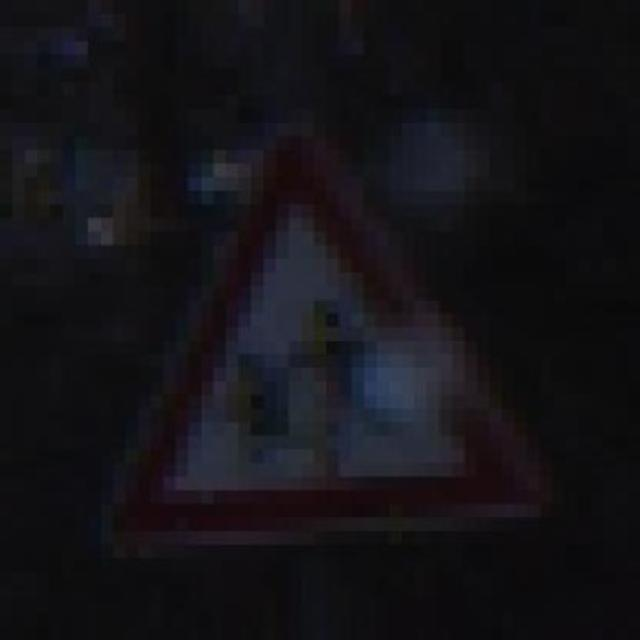Beware of children: (88, 109, 552, 545)
